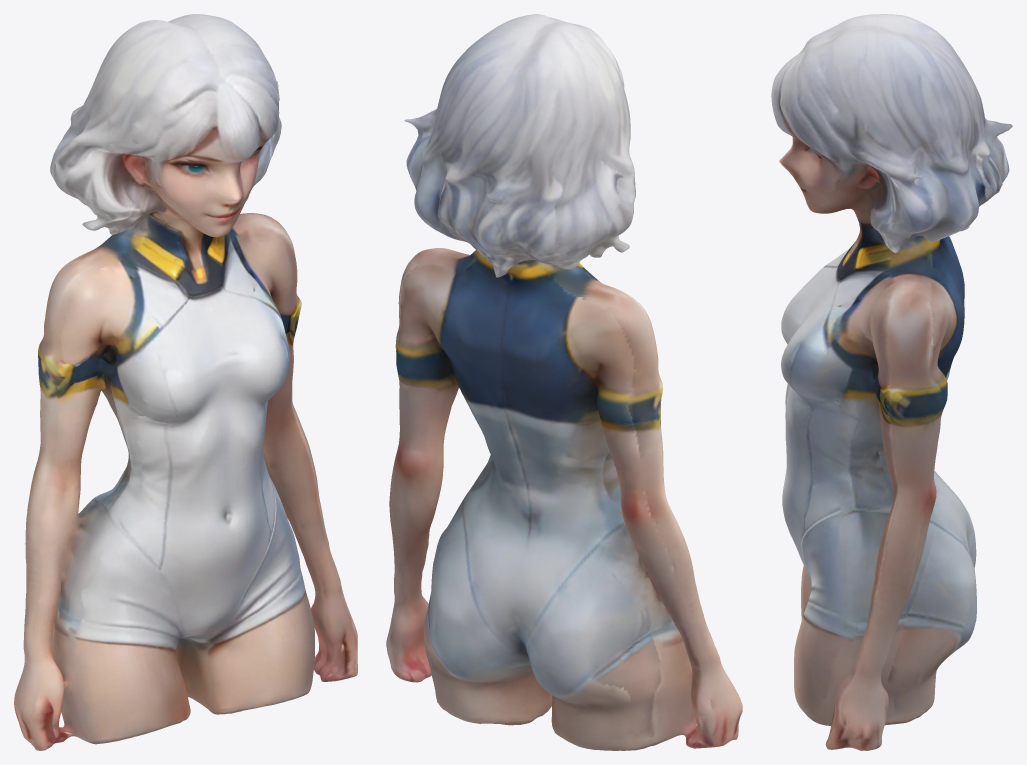
3 renders of one model, left to right at view 1: azimuth 30°, elevation 25°; view 2: azimuth 150°, elevation 25°; view 3: azimuth 270°, elevation 25°, orthographic. The views are drawn at different scales.
Visible parts, largest first — view 1: Object_4; view 2: Object_4; view 3: Object_4.
Boxes of the visible parts, box(x1,y1,x2,y2) form: Object_4: box(14, 14, 357, 750); Object_4: box(386, 14, 742, 750); Object_4: box(771, 14, 1012, 750).
Bounding box in the file's own units: 0.5225 × 0.9914 × 0.3274.
Materials: 1 (1 with a texture image).
